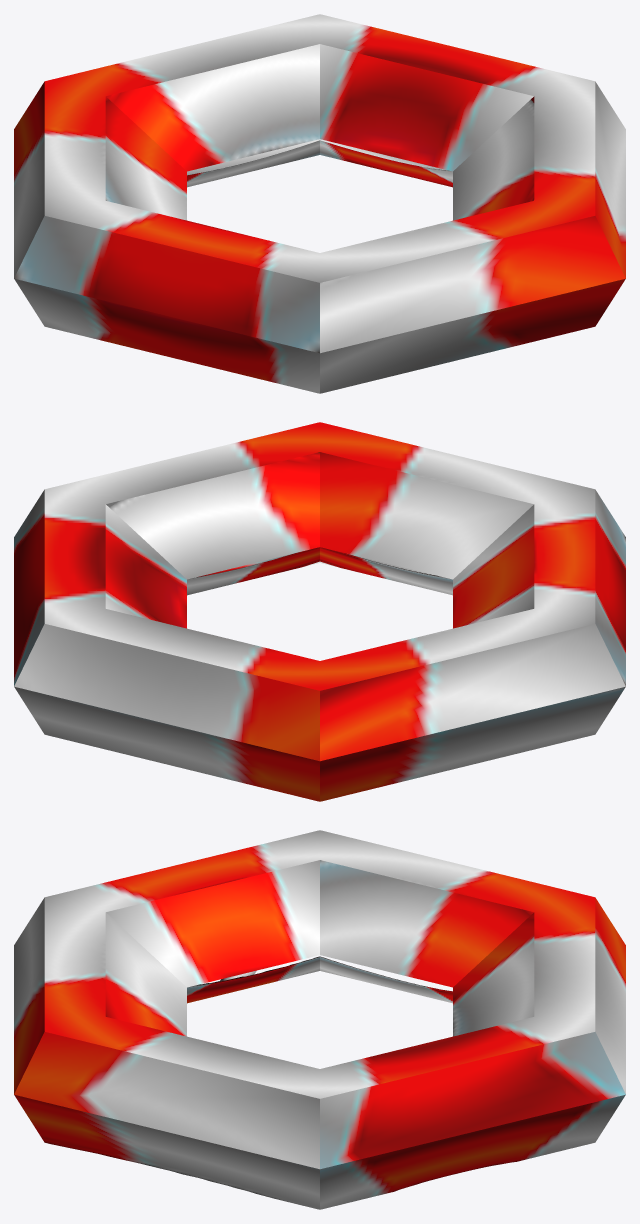
The model's file is LifeRing.fbx.
3 renders of one model, top to bottom at view 1: azimuth 30°, elevation 25°; view 2: azimuth 150°, elevation 25°; view 3: azimuth 270°, elevation 25°, orthographic.
Visible parts, largest first — view 1: SafeCircle; view 2: SafeCircle; view 3: SafeCircle.
Part boxes in pixels (bbox=[...]): SafeCircle: bbox=[14, 14, 625, 393]; SafeCircle: bbox=[14, 422, 625, 801]; SafeCircle: bbox=[14, 830, 625, 1209].
Bounding box in the file's own units: 250 × 43.3 × 217.
